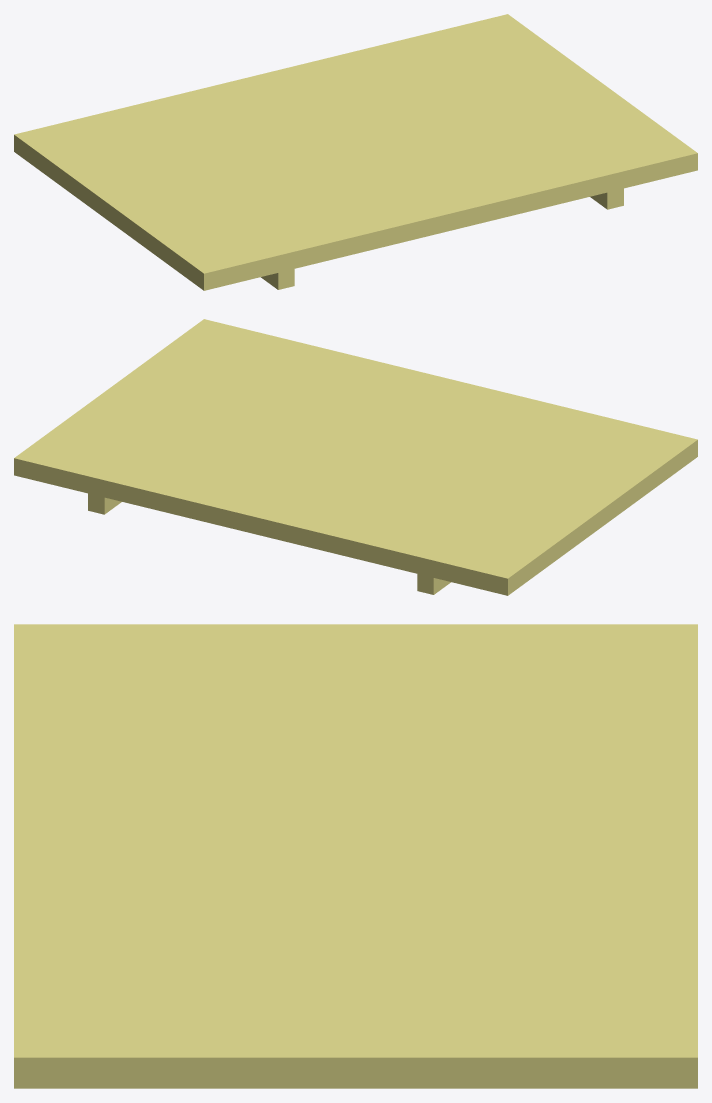
Rendered from m_coloniusLory_SushiPlatter.fbx.
3 renders of one model, top to bottom at view 1: azimuth 30°, elevation 25°; view 2: azimuth 150°, elevation 25°; view 3: azimuth 270°, elevation 25°, orthographic. The views are drawn at different scales.
Parts seen in each view (by area): view 1: m_coloniusLory_SushiPlatter; view 2: m_coloniusLory_SushiPlatter; view 3: m_coloniusLory_SushiPlatter.
Part boxes in pixels (x1=…): m_coloniusLory_SushiPlatter: x1=14, y1=14, x2=697, y2=290; m_coloniusLory_SushiPlatter: x1=14, y1=319, x2=697, y2=595; m_coloniusLory_SushiPlatter: x1=14, y1=624, x2=697, y2=1088.
Bounding box in the file's own units: 30 × 2 × 20.
